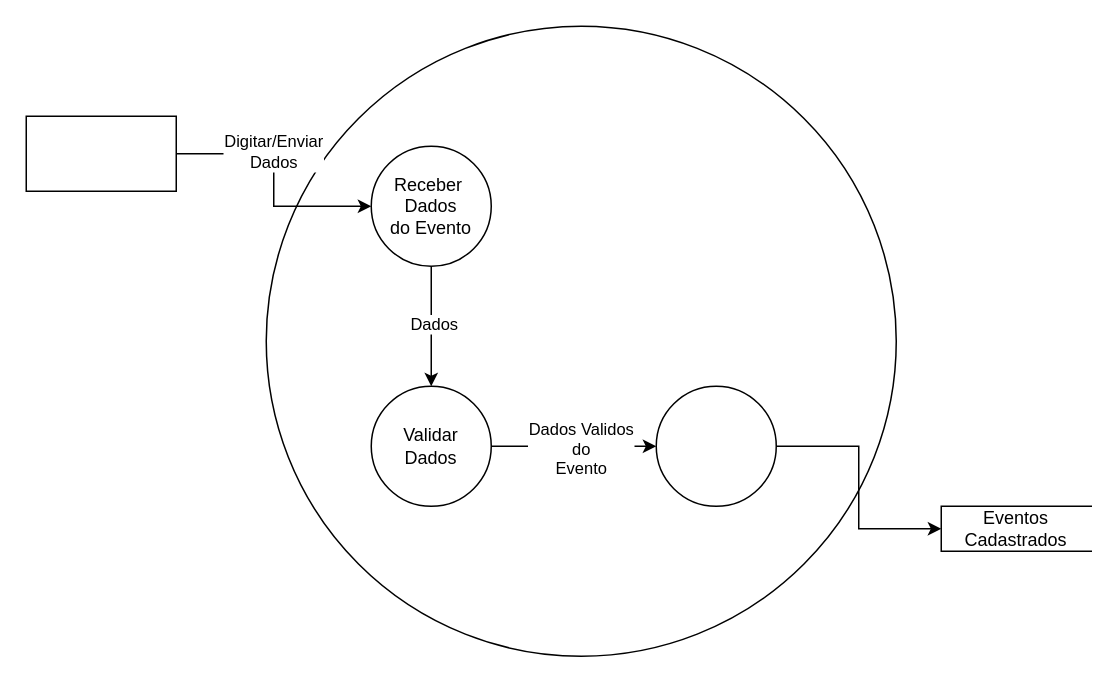
Image size: 1118x683. Some labels were removed from this diagram. The shapes that lost their labels are listed below. From the top down, each one's centre as x and y in pixels, then its label:
(100,153): Empresa
(715,445): Registrar Evento
